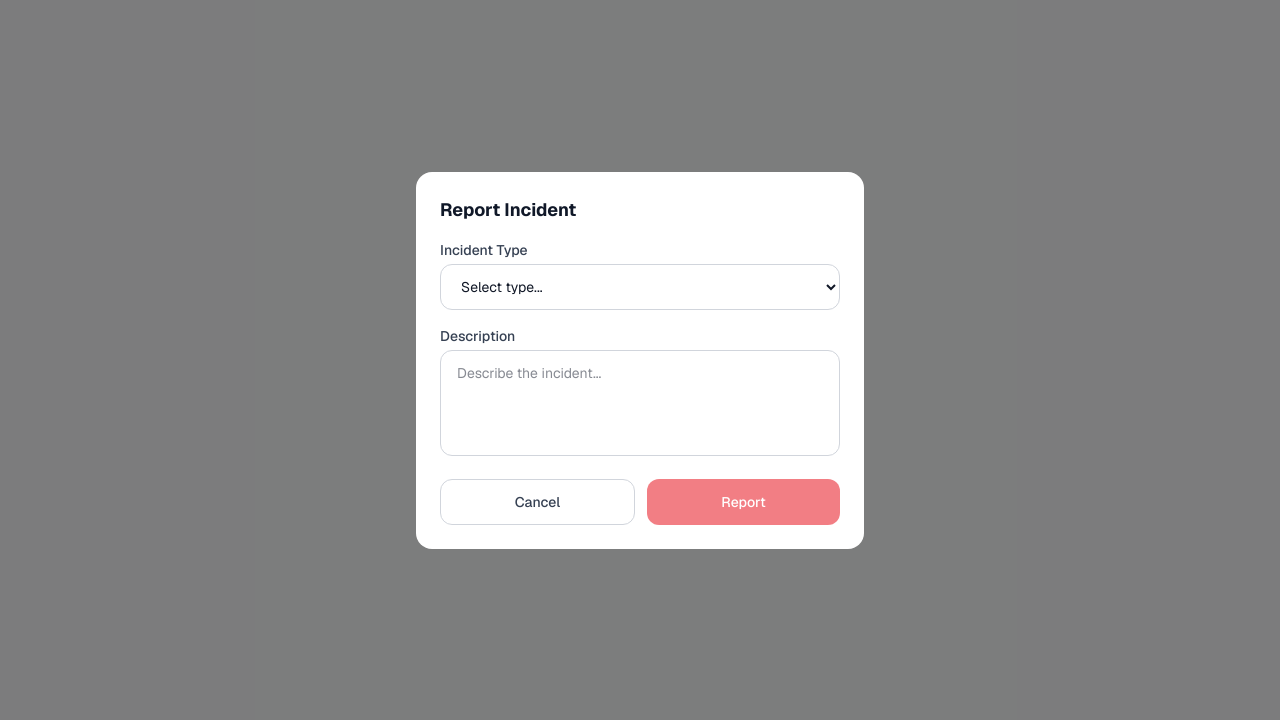
Scenario: IncidentModal › Phase 1 (Details) › enables the Report button when both fields are filled
Step 1. Select "Dead Animal" in the dropdown → (640, 286), box x1=440 y1=264 x2=840 y2=310
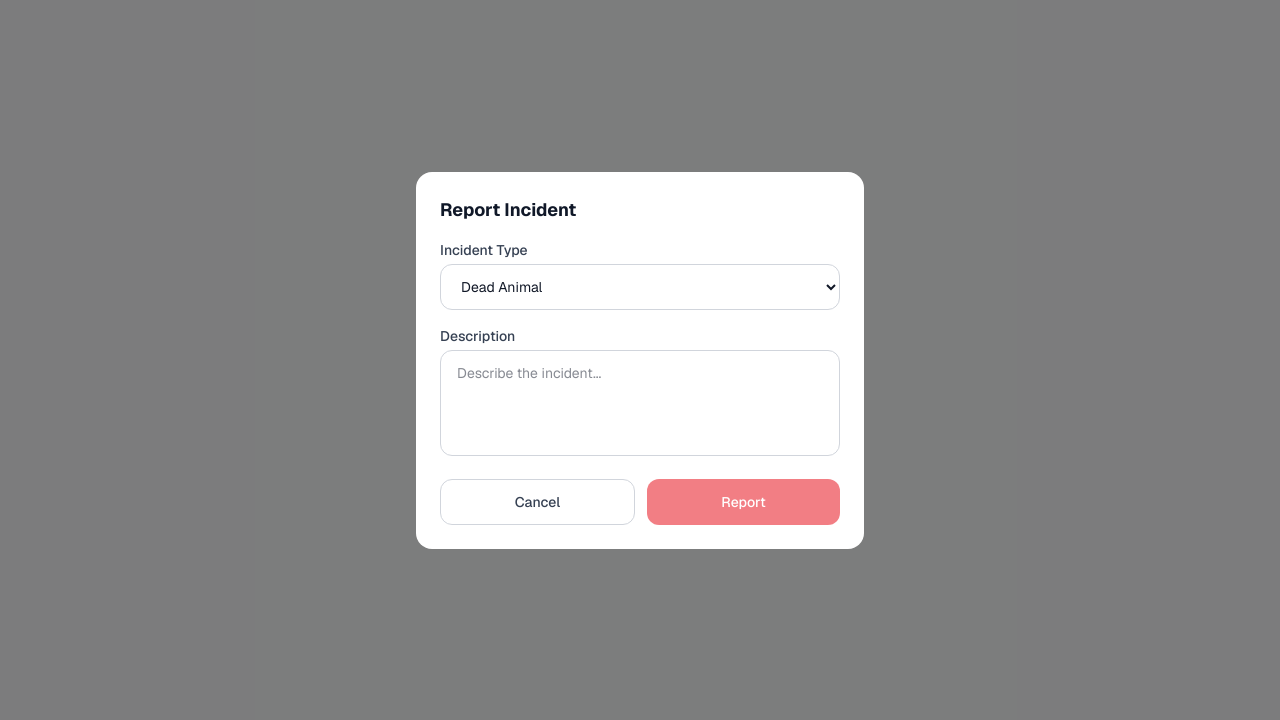
Step 2. Type "Found a dead macaque" into the text box with placeholder "Describe the incident..." → (640, 402), box x1=440 y1=350 x2=840 y2=456
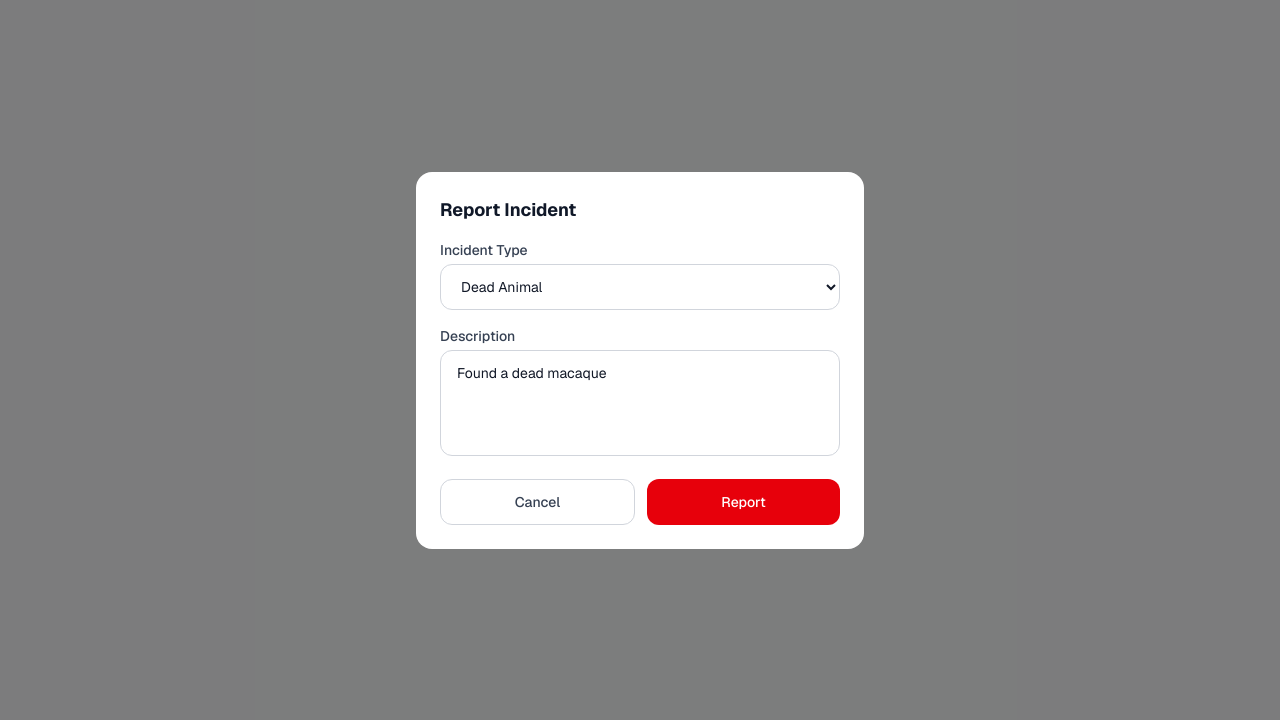
Expected: the button "Report" is enabled, x1=647 y1=478 x2=840 y2=524
